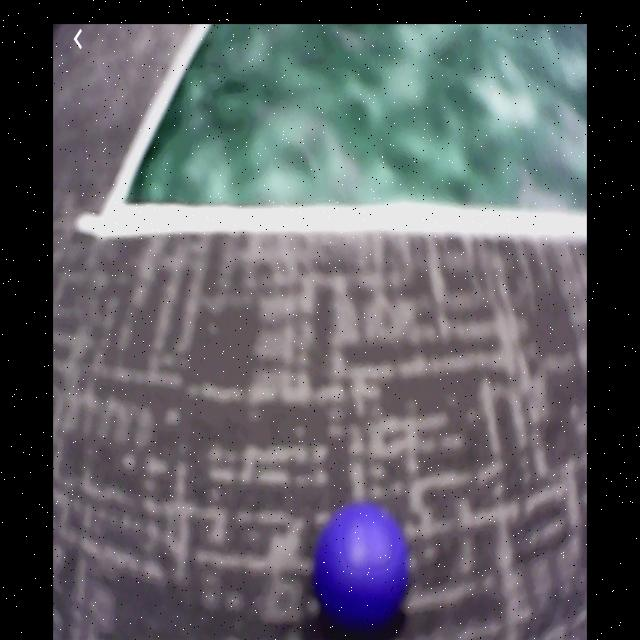ball: (315, 503, 411, 627)
